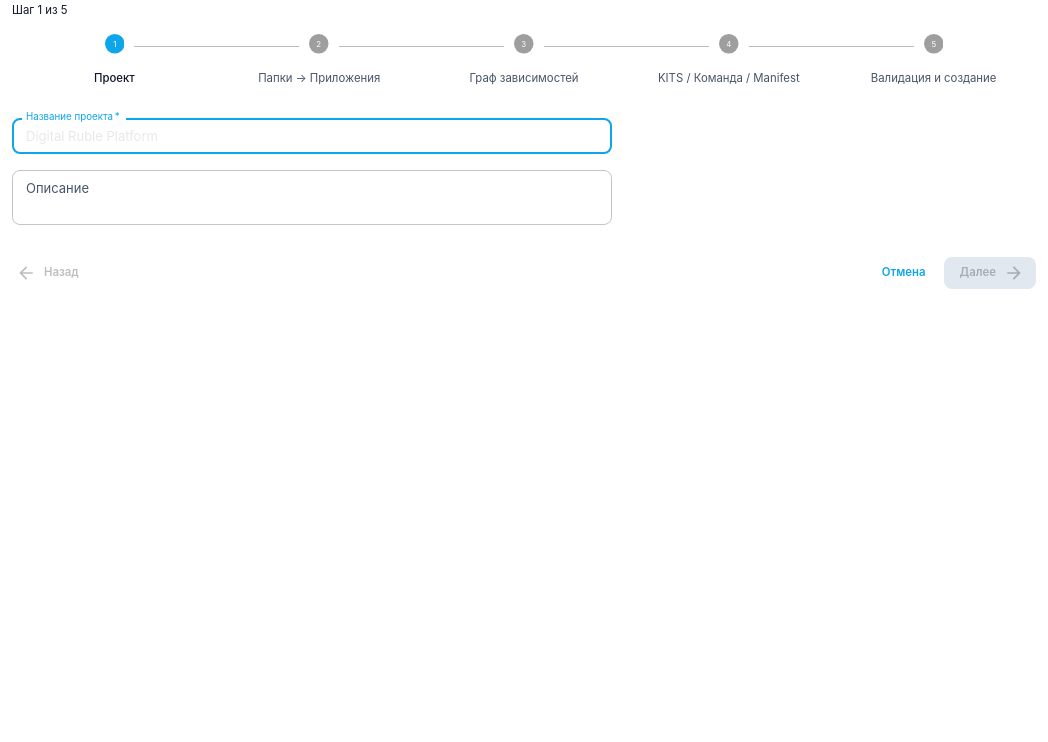
Test: POST-FLASH-001 / POST-FLASH-002: Project Composition Wizard & Corrections › ProjectCreateWizard: POST-FLASH-002 — создание проекта успешно без KITS-тегов (KITS опционален)
Go to step 4 without selecting any KITS tags
Type "Test Project No KITS" into the field labelled "Название проекта *".
click(312, 136); type("Test Project No KITS")  # box [12,118,612,154]
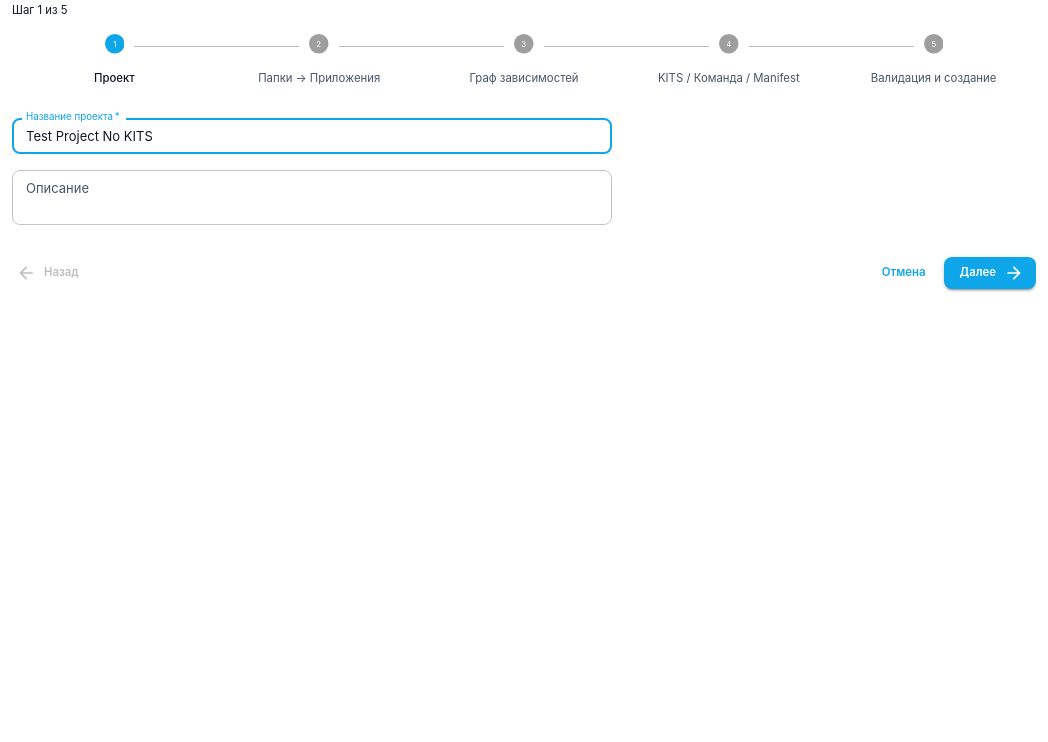
Click the button "Далее".
click(990, 273)  # box [944,257,1036,289]
(page scrolled)
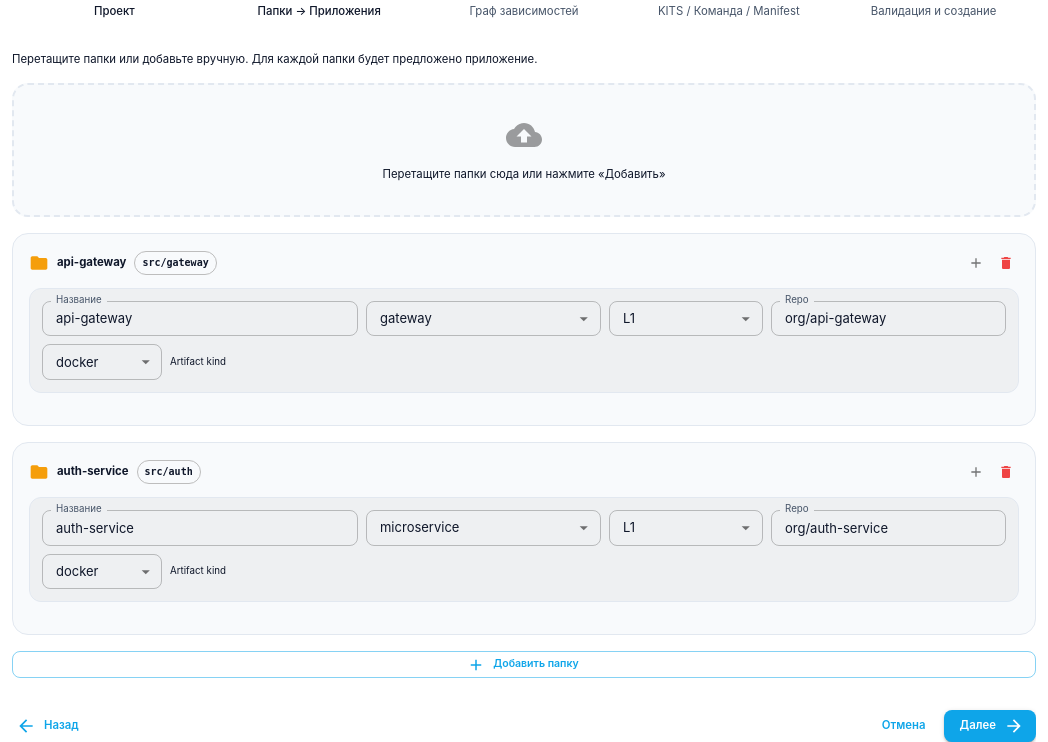
Click the button "Далее".
click(990, 726)  # box [944,710,1036,741]
(page scrolled)
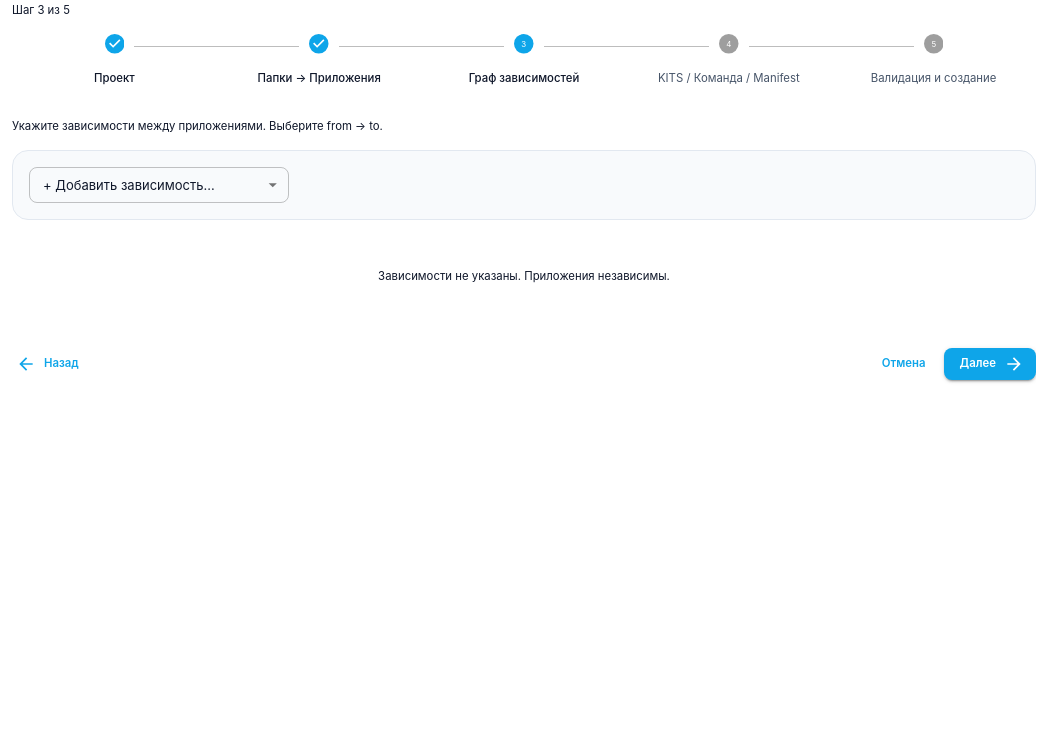
Click the button "Далее".
click(990, 364)  # box [944,348,1036,380]
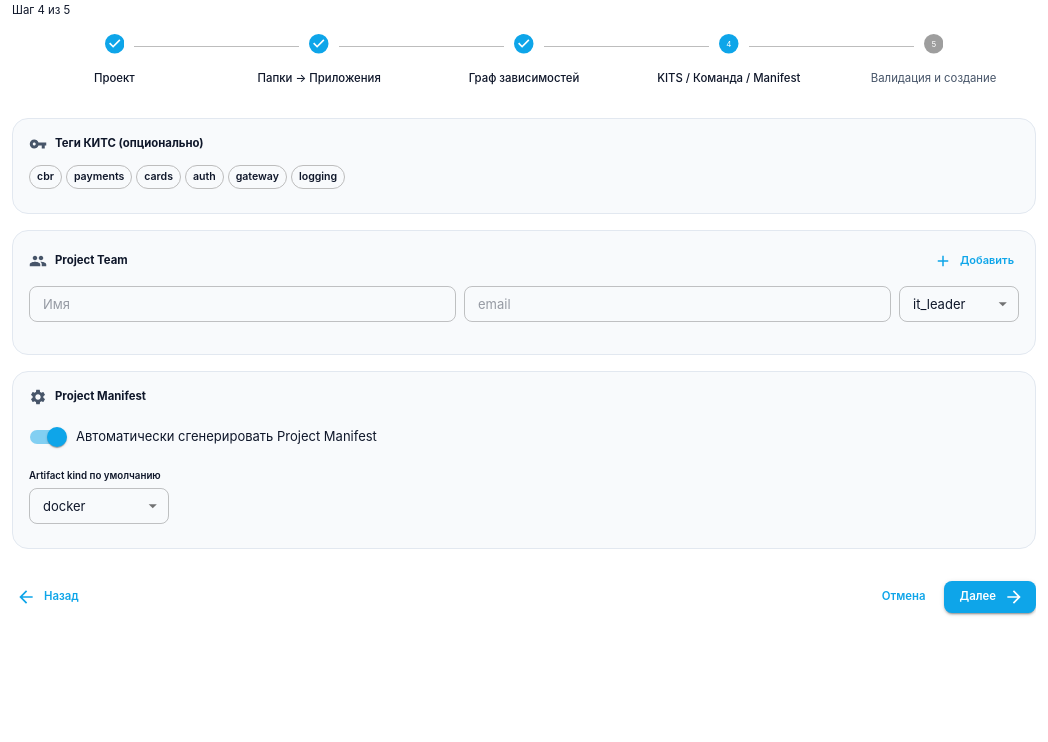
Click the button "Далее".
click(990, 597)  # box [944,581,1036,613]
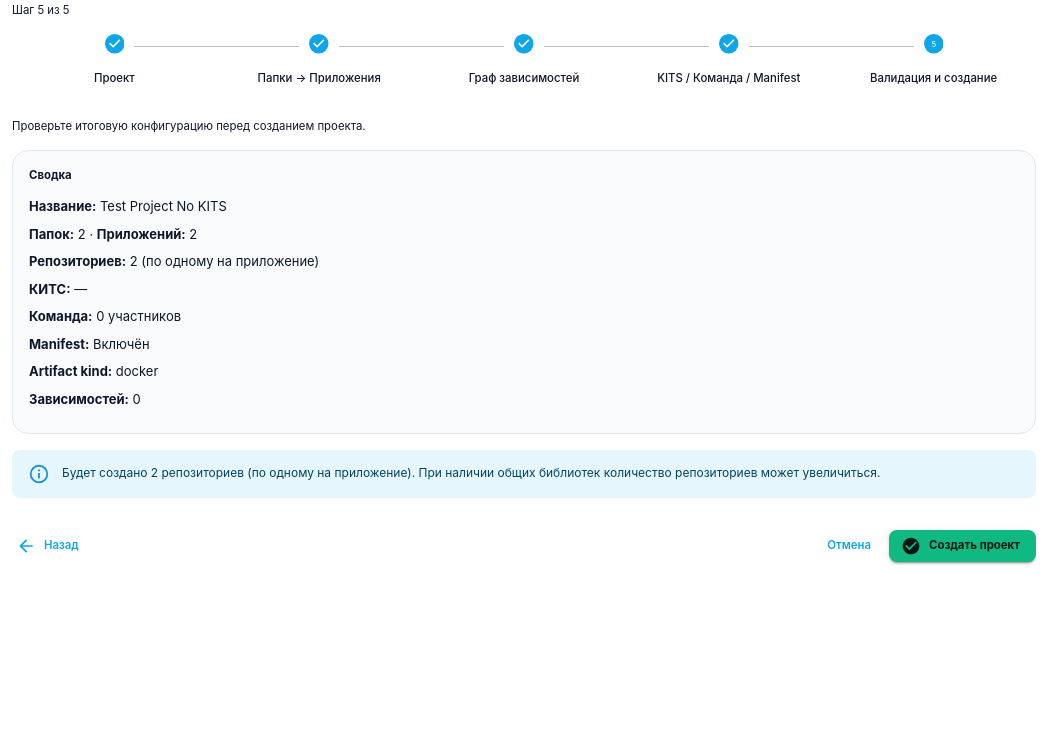
Click 'Создать проект' without selecting KITS tags — should succeed
Click the button "Создать проект".
click(963, 546)  # box [889,530,1036,562]
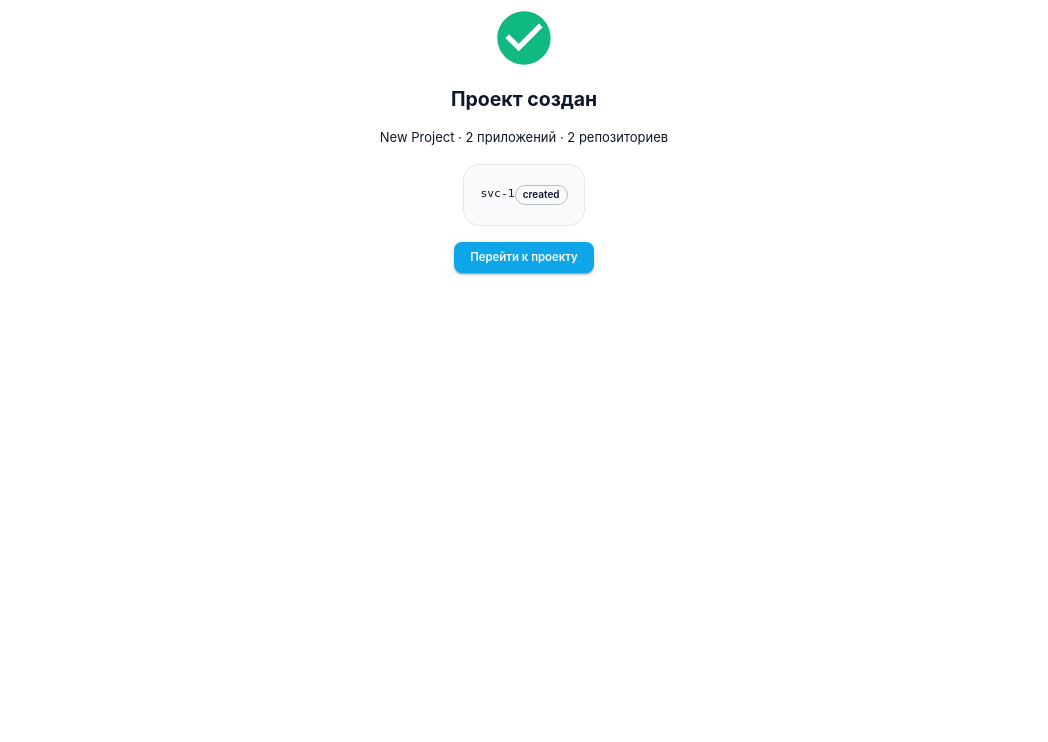
Result: the heading "Проект создан" is shown at [451,87,597,111]
